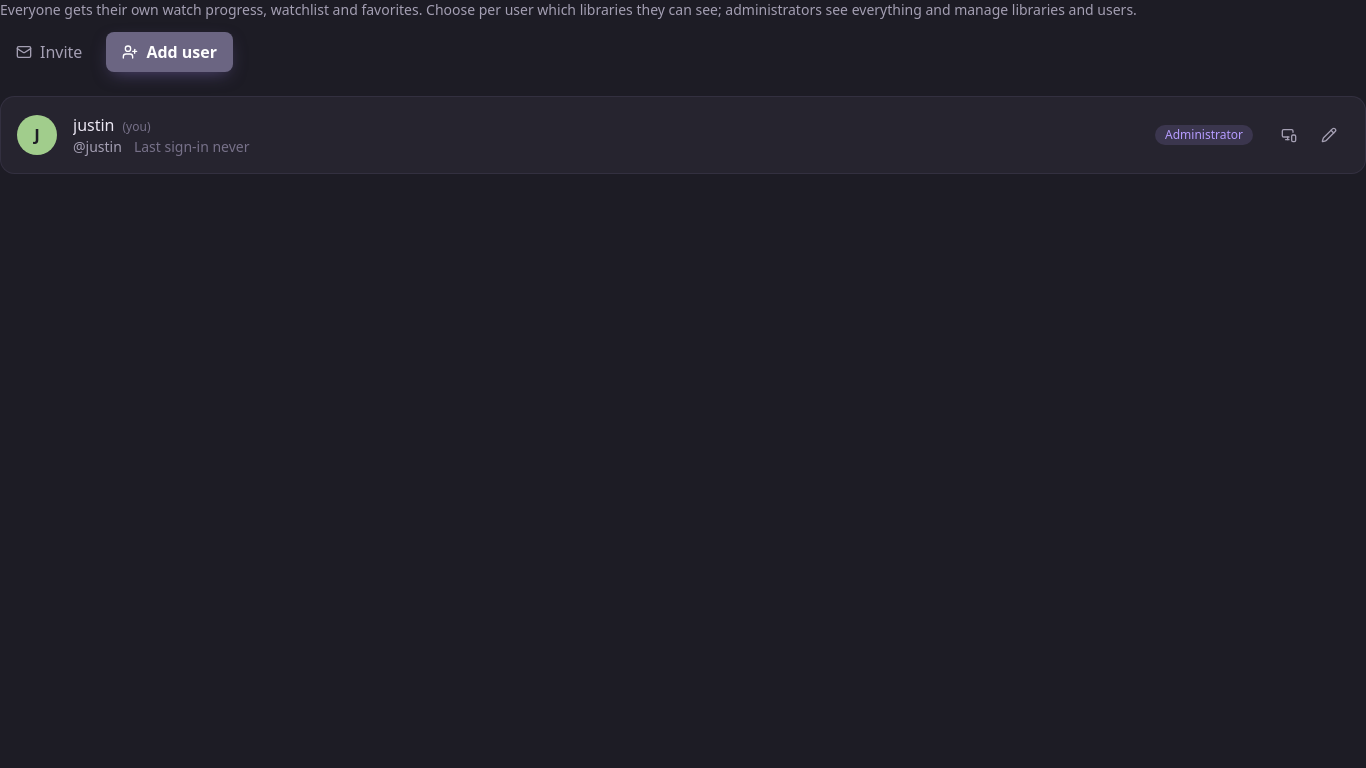
Test: Seerr per user › is not offered for administrators, who always see Seerr
Step 1. Click the button named "Edit user" → (1329, 135), box [1309,115,1349,155]
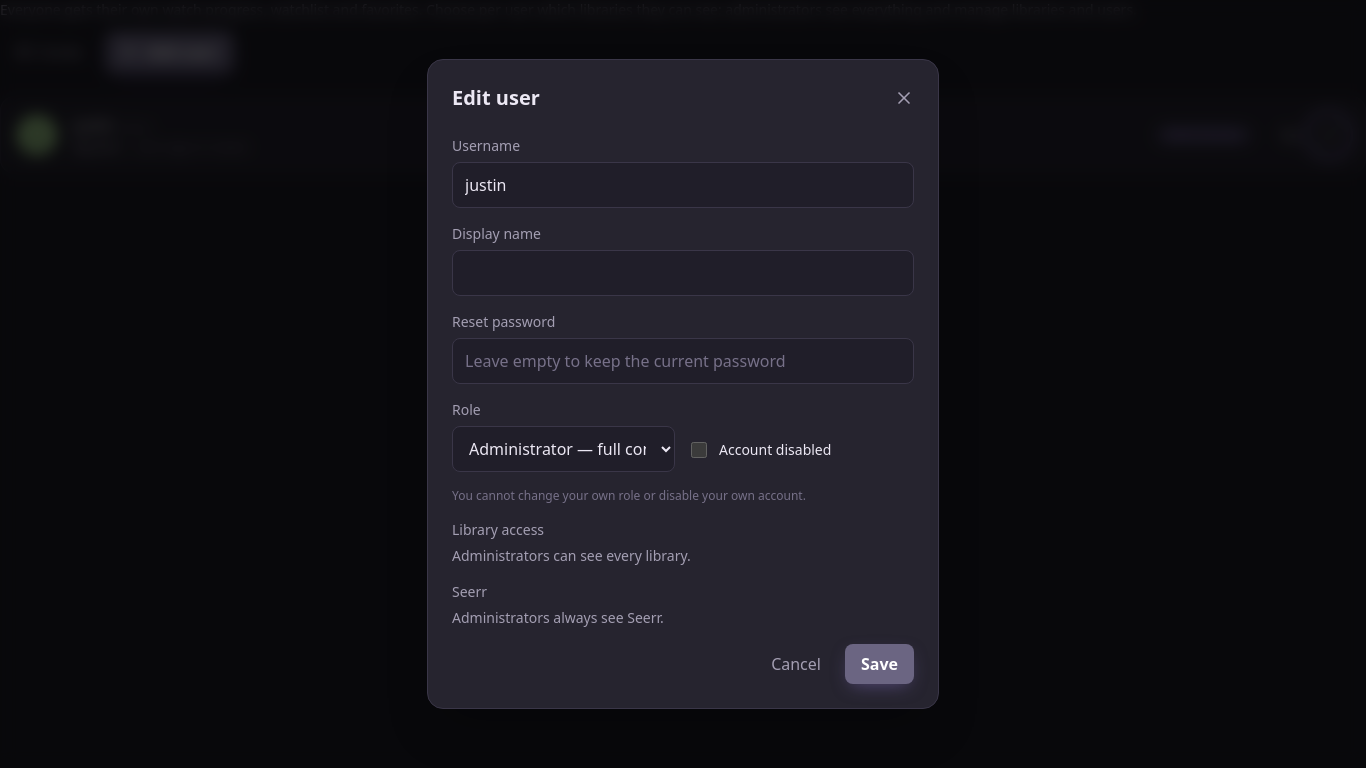
Result: the text "Administrators always see Seerr." is shown at [452,608,664,627]
